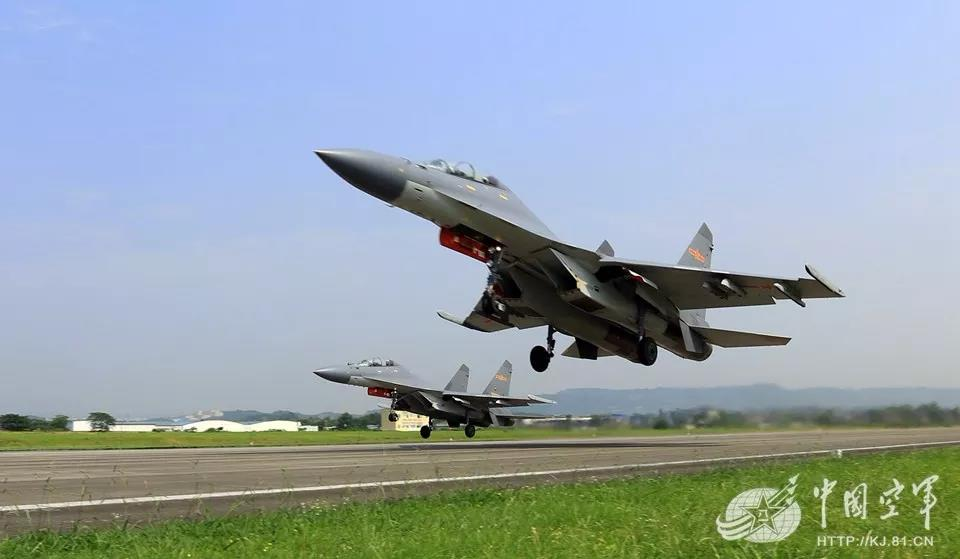airplane: (309, 143, 847, 365), (313, 348, 558, 435)
